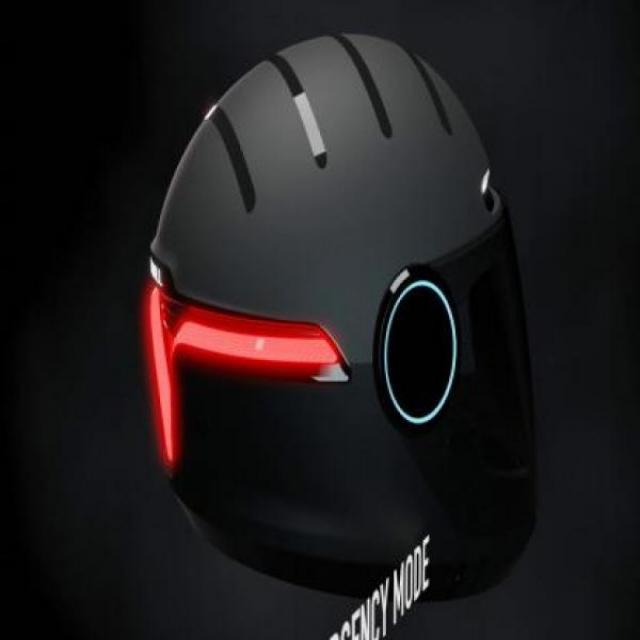Helmet: (125, 29, 545, 564)
